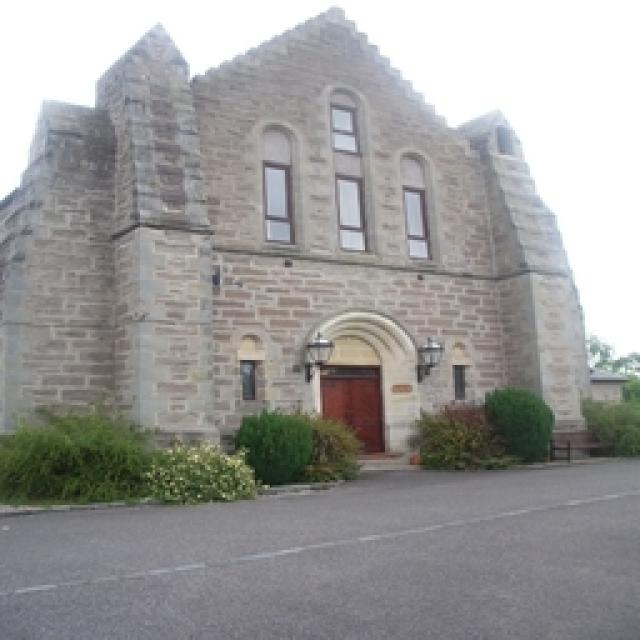Abbey: (7, 13, 598, 505)
